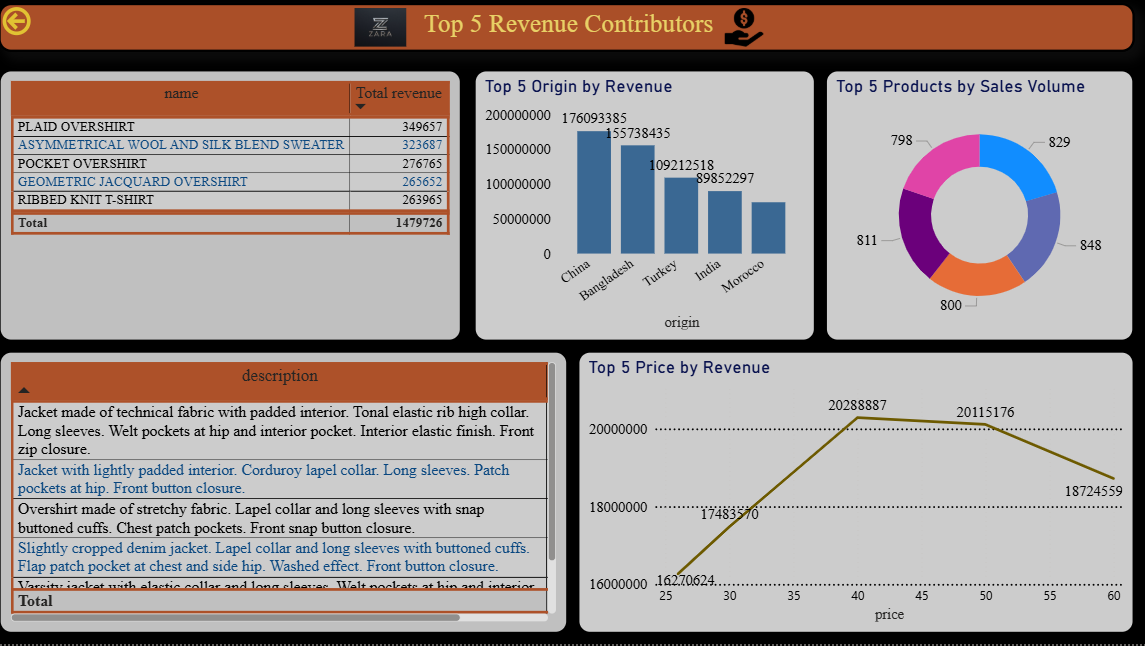

This screenshot's page, from the dashboard's own definition file:
{"tool":"powerbi","page":{"name":"Product Deep Dive(Drill through)","canvas":[1280,720],"ordinal":1},"visuals":[{"type":"textbox","title":"Top 5 Revenue Contributors","box":[13.7,16.5,1247.3,53.5],"z":0},{"type":"actionButton","box":[13.7,16.5,70,39.8],"z":1000},{"type":"clusteredColumnChart","title":"Top 5 Origin by Revenue","fields":{"Category":["Zara_Cleaned_Data.origin"],"Y":["Zara_Cleaned_Data.Total revenue"]},"box":[535.2,89.2,376,299.1],"z":2000},{"type":"tableEx","fields":{"Values":["Zara_Cleaned_Data.name","Zara_Cleaned_Data.Total revenue"]},"box":[13.7,89.2,509.1,299.1],"z":3000},{"type":"tableEx","fields":{"Values":["Zara_Cleaned_Data.description","Zara_Cleaned_Data.Total revenue"]},"box":[13.7,397.9,625.7,311.5],"z":4000},{"type":"lineChart","title":"Top 5 Price by Revenue","fields":{"Category":["Zara_Cleaned_Data.price"],"Y":["Zara_Cleaned_Data.Total revenue"]},"box":[649.1,397.9,612,311.5],"z":5000},{"type":"donutChart","title":"Top 5 Products by Sales Volume","fields":{"Y":["Zara_Cleaned_Data.Total revenue"],"Category":["Zara_Cleaned_Data.Sales Volume"]},"box":[920.8,89.2,340.3,299.1],"z":6000},{"type":"image","box":[791.8,22,81,42.5],"z":7000},{"type":"image","box":[377.4,22,111.1,42.5],"z":8000}]}

Visuals, with their boxes in screenshot pixels (x1, y1, x2, y2), scaled from the page's 1280x720 canvas onto the 1145x646 screenshot:
"Top 5 Revenue Contributors" textbox: l=12, t=15, r=1128, b=63
actionButton: l=12, t=15, r=75, b=51
"Top 5 Origin by Revenue" clusteredColumnChart: l=479, t=80, r=815, b=348
tableEx - Zara_Cleaned_Data.name x Zara_Cleaned_Data.Total revenue: l=12, t=80, r=468, b=348
tableEx - Zara_Cleaned_Data.description x Zara_Cleaned_Data.Total revenue: l=12, t=357, r=572, b=636
"Top 5 Price by Revenue" lineChart: l=581, t=357, r=1128, b=636
"Top 5 Products by Sales Volume" donutChart: l=824, t=80, r=1128, b=348
image: l=708, t=20, r=781, b=58
image: l=338, t=20, r=437, b=58
